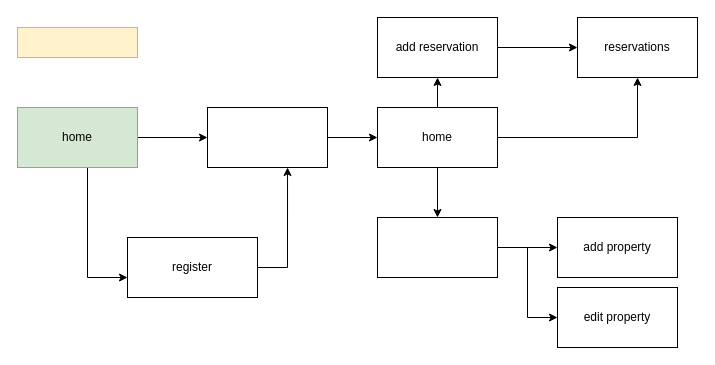
Image size: 715x365. Some labels were removed from this diagram. The centre of each missing label's shape, as x and y in pixels:
login: [267,137]
properties: [437,247]
routing: [77,42]
